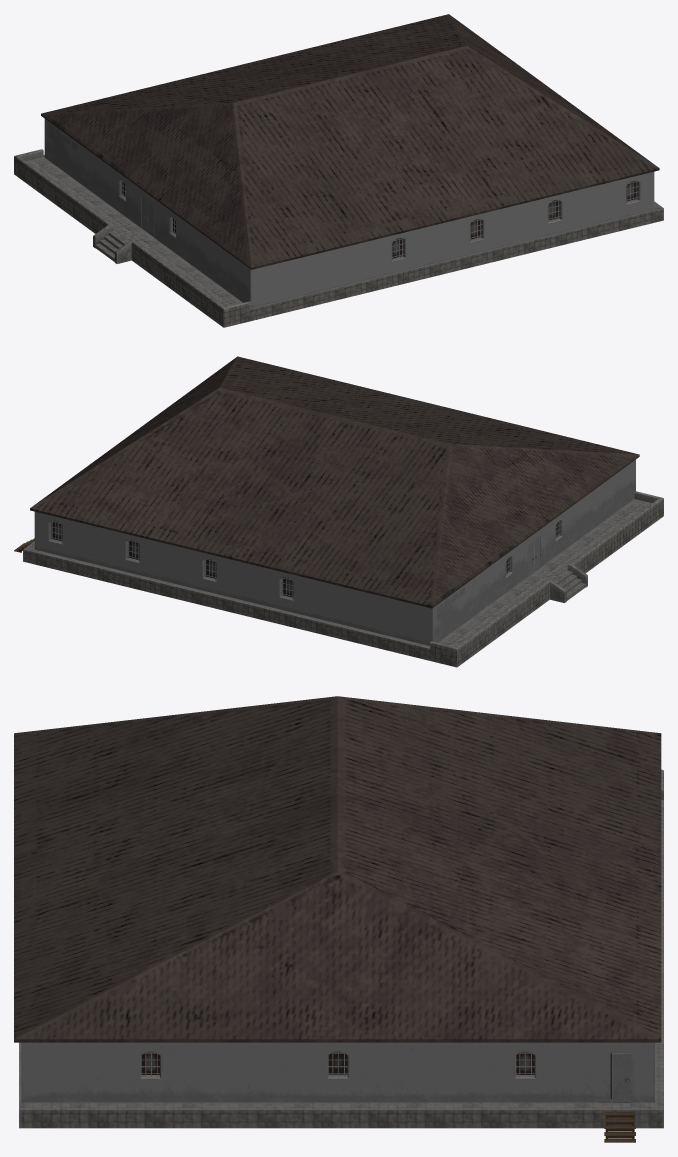
Rendered from Delegacia_Final.fbx.
The picture shows the model from 3 angles, top to bottom: view 1: azimuth 30°, elevation 25°; view 2: azimuth 150°, elevation 25°; view 3: azimuth 270°, elevation 25°; orthographic projection. The views are drawn at different scales.
Parts seen in each view (by area): view 1: Telhado, Delegacia, Fundação/escada, Cube.003; view 2: Telhado, Delegacia, Fundação/escada, Cube.003; view 3: Telhado, Delegacia, Fundação/escada, Cube.011, Cube.007.
Part boxes in pixels (bbox=[...]): Telhado: bbox=[41, 14, 659, 269]; Delegacia: bbox=[44, 119, 654, 307]; Fundação/escada: bbox=[14, 149, 663, 327]; Cube.003: bbox=[95, 231, 127, 261]; Telhado: bbox=[30, 356, 639, 608]; Delegacia: bbox=[34, 459, 635, 645]; Fundação/escada: bbox=[23, 491, 663, 667]; Cube.003: bbox=[554, 570, 585, 600]; Telhado: bbox=[14, 696, 661, 1042]; Delegacia: bbox=[21, 1042, 654, 1102]; Fundação/escada: bbox=[19, 769, 663, 1128]; Cube.011: bbox=[611, 1053, 631, 1102]; Cube.007: bbox=[604, 1111, 635, 1142].
Bounding box in the file's own units: 3055 × 754 × 2362.
